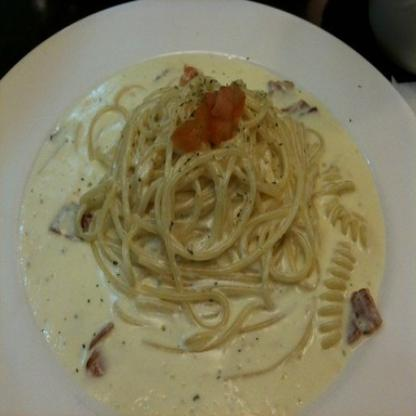pasta: (75, 81, 338, 334)
